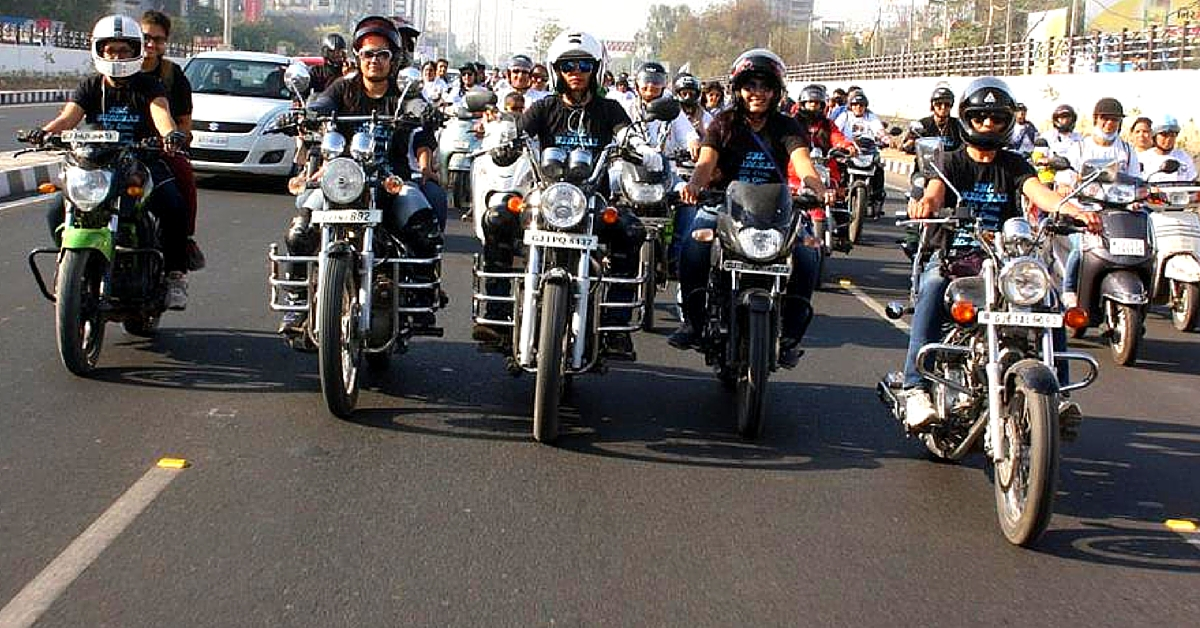helmet: (87, 17, 149, 88), (954, 70, 1016, 141), (543, 36, 605, 77), (344, 6, 406, 47), (730, 56, 789, 95), (635, 58, 666, 91)
